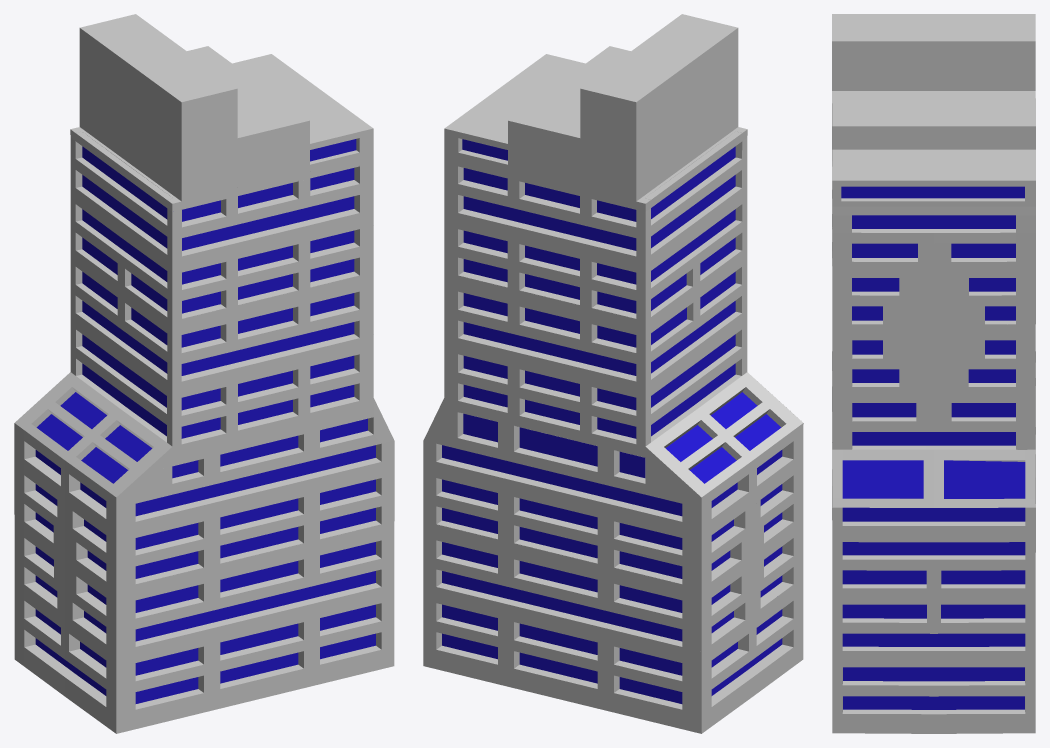
Rendered from building2.fbx.
3 renders of one model, left to right at view 1: azimuth 30°, elevation 25°; view 2: azimuth 150°, elevation 25°; view 3: azimuth 270°, elevation 25°, orthographic.
Parts seen in each view (by area): view 1: Cube; view 2: Cube; view 3: Cube.
Boxes of the visible parts, bbox=[...] form: Cube: bbox=[14, 14, 394, 733]; Cube: bbox=[423, 14, 803, 733]; Cube: bbox=[832, 14, 1035, 733].
Bounding box in the file's own units: 709 × 1498 × 449.
